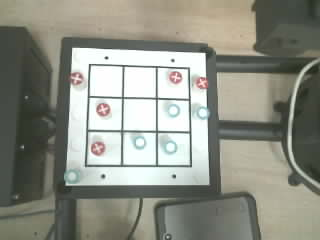blue circle: (64, 169, 80, 183), (164, 140, 177, 153), (196, 106, 209, 119), (167, 104, 179, 116), (134, 136, 145, 149)
board: (64, 48, 209, 185)
cells: (87, 132, 120, 164), (88, 98, 122, 129), (123, 132, 155, 164), (158, 133, 190, 165), (123, 99, 155, 130), (90, 66, 122, 96), (158, 68, 189, 98), (158, 100, 189, 130), (124, 67, 155, 97)
grid: (85, 64, 191, 166)
red cross: (91, 141, 105, 155), (69, 72, 83, 85), (96, 103, 110, 116), (169, 71, 182, 83), (196, 77, 207, 88)
